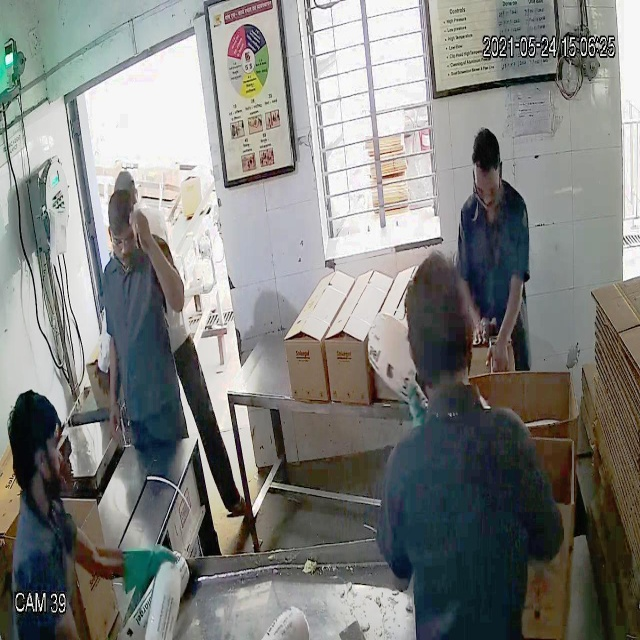Gafas: (109, 226, 141, 250)
